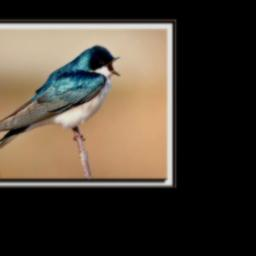Swallow: (0, 43, 124, 151)
